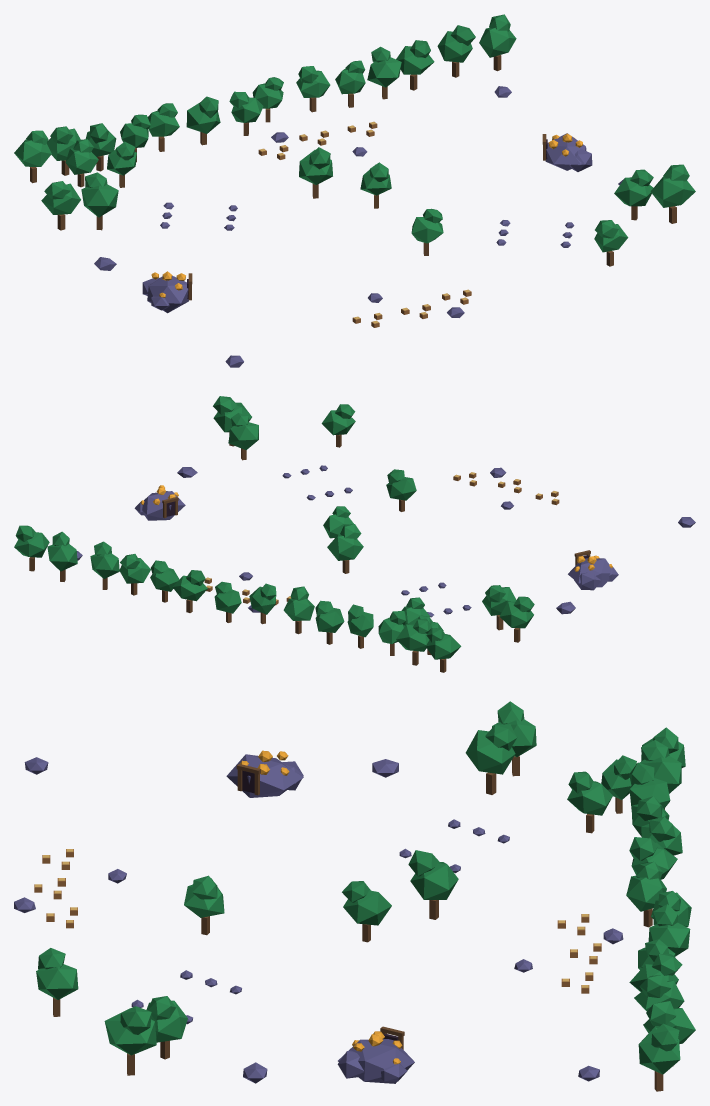
The model's file is woods.glb.
3 renders of one model, top to bottom at view 1: azimuth 30°, elevation 25°; view 2: azimuth 150°, elevation 25°; view 3: azimuth 270°, elevation 25°, orthographic. The views are drawn at different scales.
Visible parts, largest first — view 1: Model; view 2: Model; view 3: Model.
Part boxes in pixels (box(x1,y1,x2,y2)): Model: box(14, 14, 695, 367); Model: box(14, 396, 695, 672); Model: box(14, 701, 695, 1091).
Size of the model in its own units: 19.61 by 2.28 by 16.81.
